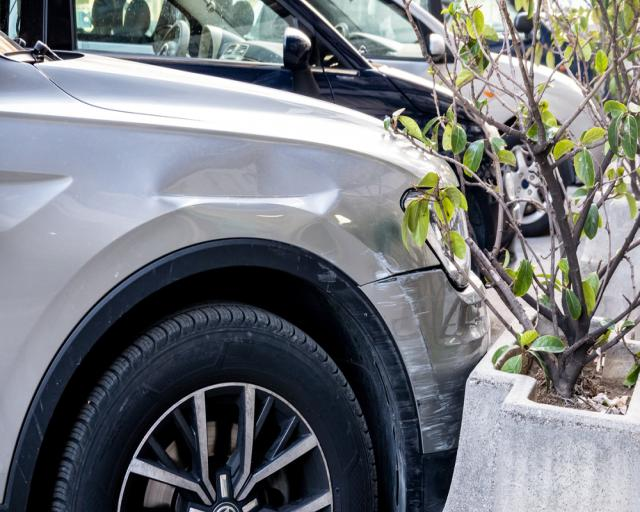dent: (152, 141, 337, 242)
scratch: (376, 274, 465, 453), (374, 247, 401, 282)
